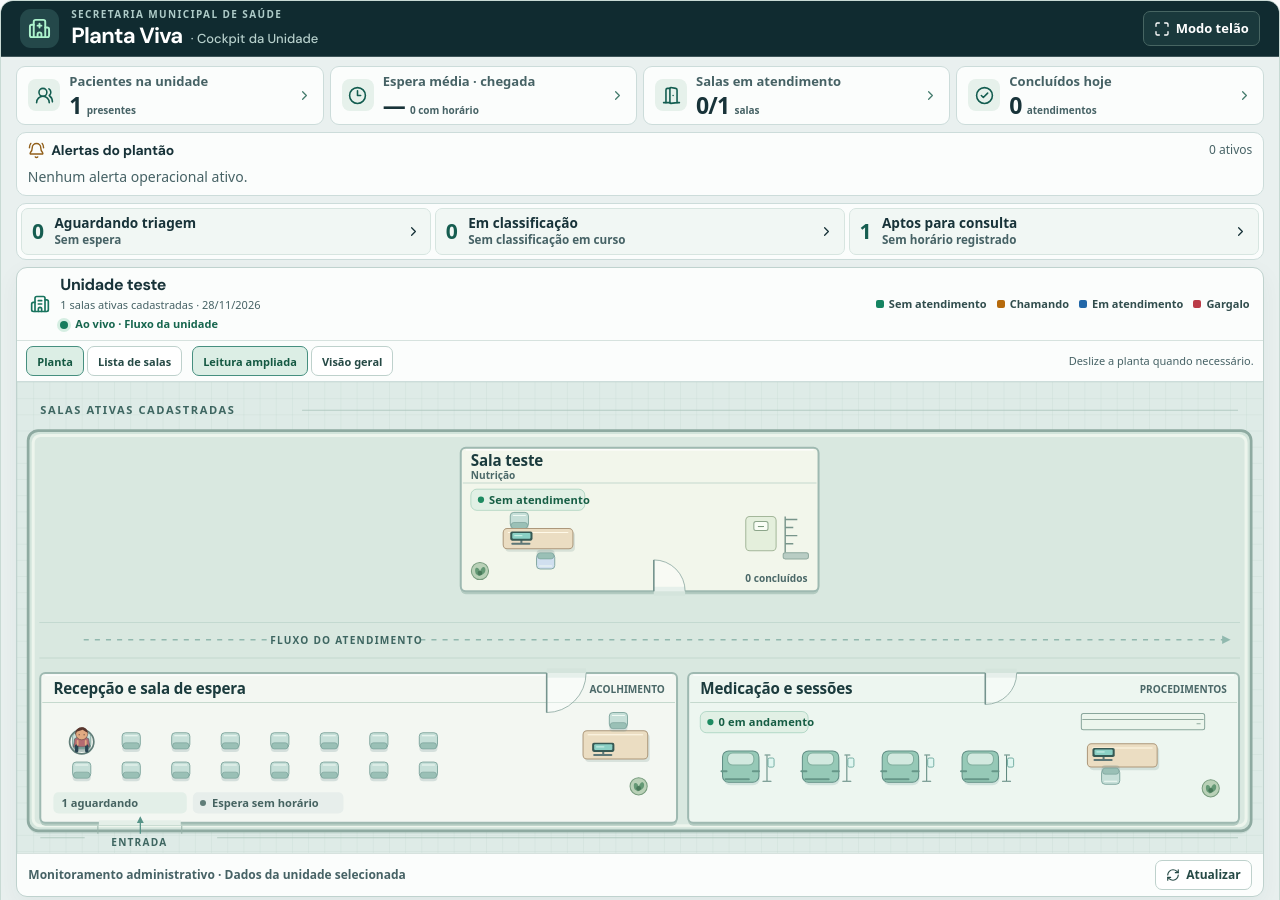
Test: não apresenta espera média zero quando todos os horários estão ausentes
Click the button "Espera média · chegada — 0 com horário".
click(459, 81)  # box [330,66,637,125]
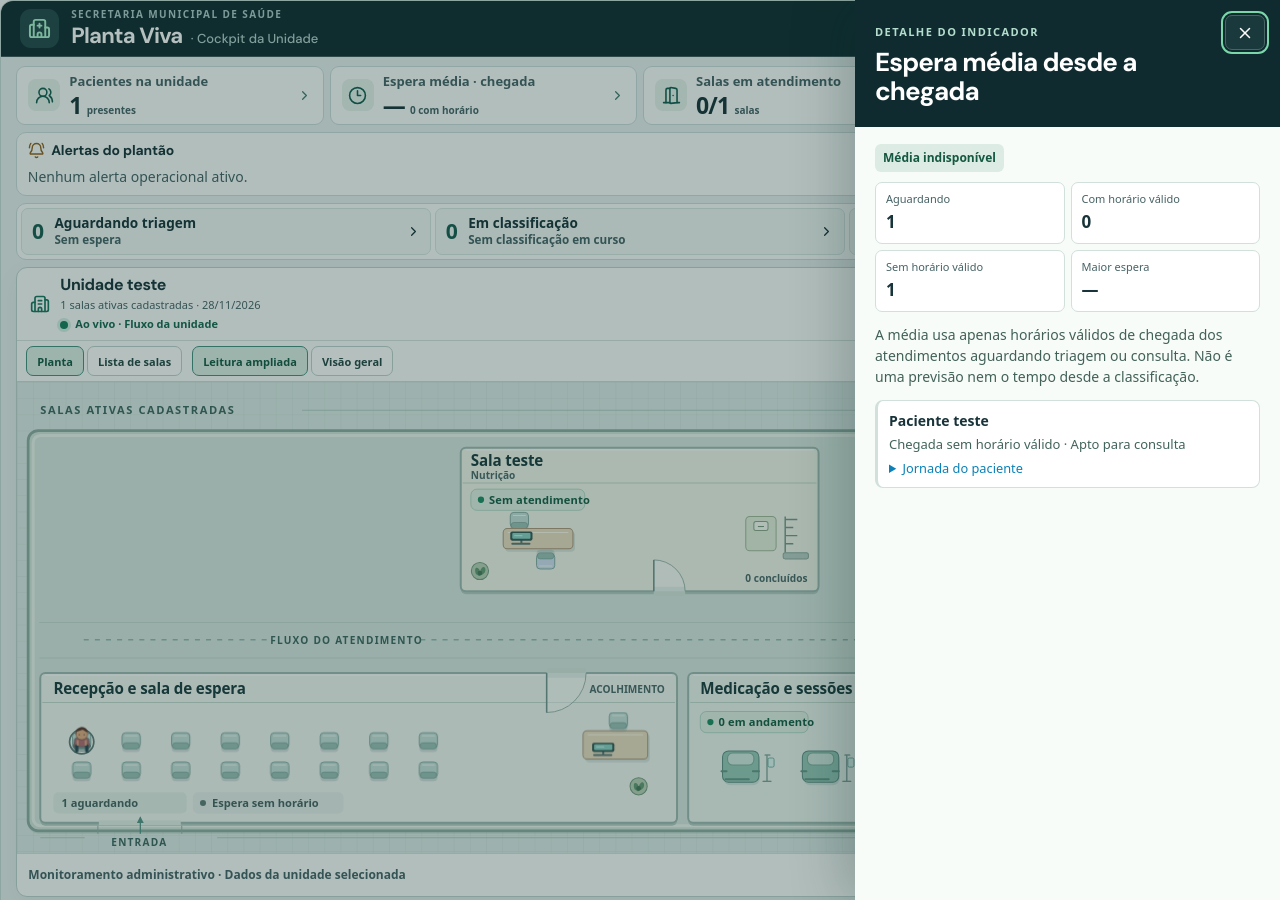
Check: the text "Média indisponível" is shown, box [875,144,1004,172]
